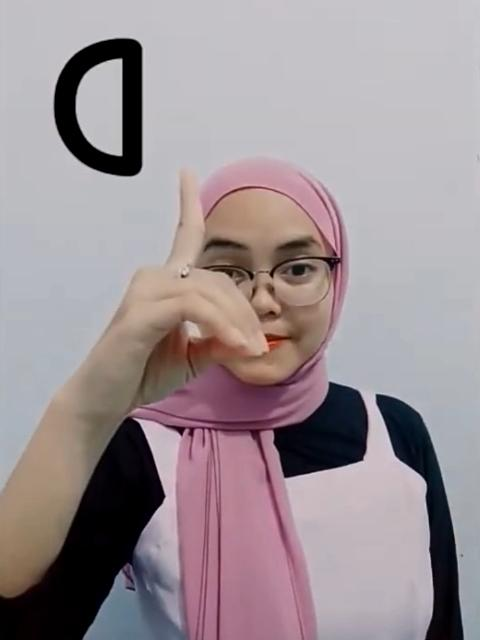D: (77, 165, 272, 412)
